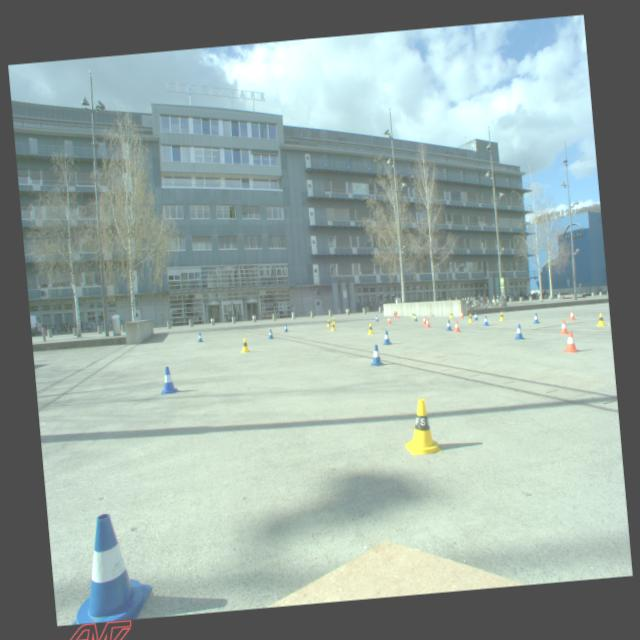blue_cone: (63, 508, 154, 624), (158, 365, 179, 394), (366, 344, 384, 366), (512, 322, 524, 340), (381, 330, 393, 344), (444, 319, 452, 331), (532, 312, 540, 323), (196, 332, 204, 342), (267, 328, 274, 339), (482, 314, 488, 326), (282, 324, 288, 332), (472, 312, 478, 320), (412, 314, 418, 320), (374, 314, 379, 321)
orange_cone: (561, 331, 580, 354), (558, 319, 568, 334), (453, 319, 460, 332), (568, 309, 576, 320), (424, 317, 431, 327), (421, 316, 427, 324), (458, 310, 464, 318), (386, 316, 391, 324), (395, 312, 399, 318)
yellow_cone: (400, 397, 442, 456), (594, 312, 606, 326), (239, 337, 250, 352), (366, 322, 374, 334), (329, 322, 336, 331), (498, 310, 504, 320), (467, 313, 473, 322), (325, 318, 331, 326), (448, 311, 454, 318), (332, 316, 336, 324), (410, 312, 414, 318)
